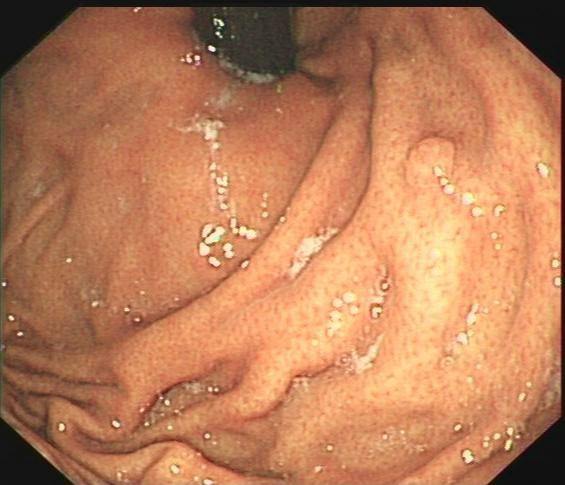Polyp: (402, 116, 471, 205)
